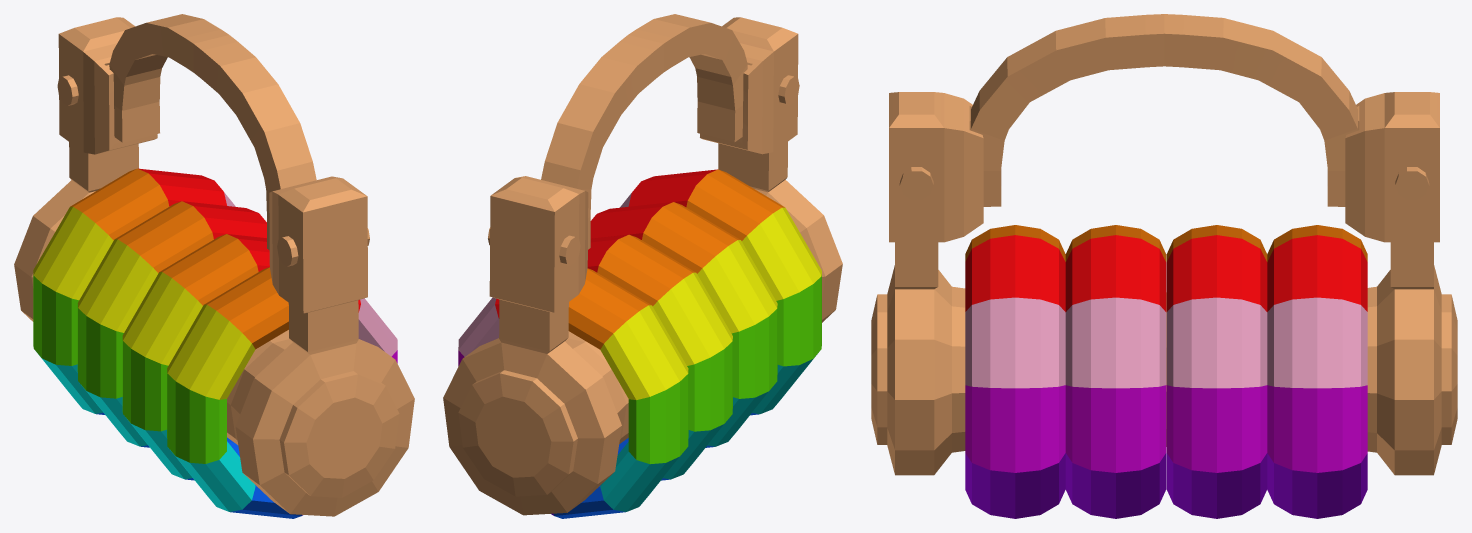
Rendered from Locker.glb.
The picture shows the model from 3 angles, left to right: view 1: azimuth 30°, elevation 25°; view 2: azimuth 150°, elevation 25°; view 3: azimuth 270°, elevation 25°; orthographic projection. The views are drawn at different scales.
Parts seen in each view (by area): view 1: S_LowLocker, Wheel4, Wheel1, Wheel2, Wheel3; view 2: S_LowLocker, Wheel1, Wheel4, Wheel3, Wheel2; view 3: S_LowLocker, Wheel2, Wheel3, Wheel1, Wheel4.
Boxes of the visible parts, bbox=[...] form: S_LowLocker: bbox=[14, 14, 414, 516]; Wheel4: bbox=[167, 267, 397, 518]; Wheel1: bbox=[33, 168, 235, 414]; Wheel2: bbox=[77, 201, 266, 447]; Wheel3: bbox=[122, 234, 269, 480]; S_LowLocker: bbox=[443, 14, 842, 515]; Wheel1: bbox=[458, 268, 688, 518]; Wheel4: bbox=[620, 169, 821, 415]; Wheel3: bbox=[590, 202, 777, 447]; Wheel2: bbox=[587, 234, 732, 480]; S_LowLocker: bbox=[871, 14, 1457, 475]; Wheel2: bbox=[1166, 225, 1267, 518]; Wheel3: bbox=[1065, 225, 1166, 518]; Wheel1: bbox=[1267, 225, 1367, 518]; Wheel4: bbox=[965, 225, 1065, 518].
Size of the model in its own units: 0.4243 by 0.812 by 0.8943.
